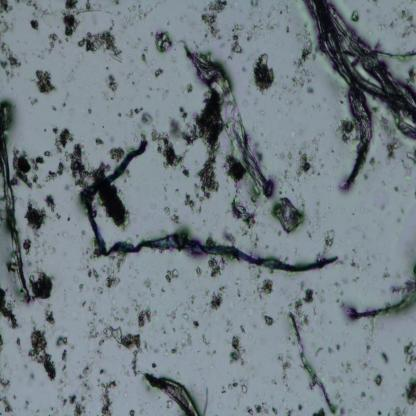Background material: (95, 304, 153, 372), (191, 92, 223, 199), (149, 110, 195, 180), (287, 22, 315, 94), (226, 191, 261, 248), (76, 21, 122, 63), (277, 139, 319, 185), (66, 142, 110, 183), (24, 327, 55, 384), (96, 185, 132, 232), (165, 305, 201, 352), (63, 361, 92, 415), (28, 271, 57, 324), (12, 150, 48, 190), (86, 254, 127, 289), (23, 194, 58, 235), (272, 194, 306, 236), (376, 115, 401, 162), (246, 262, 274, 302), (199, 0, 226, 41), (388, 5, 416, 41), (250, 53, 274, 92), (0, 284, 20, 330), (121, 4, 152, 31), (0, 40, 22, 78), (200, 285, 228, 314), (338, 254, 364, 285), (49, 121, 75, 152), (292, 291, 315, 325), (60, 0, 81, 37), (246, 18, 281, 40), (222, 153, 245, 186), (195, 256, 231, 277), (99, 378, 119, 415), (85, 300, 101, 344), (24, 0, 54, 22), (318, 229, 338, 260), (33, 68, 55, 96), (275, 352, 292, 388), (334, 112, 354, 142), (0, 1, 15, 38), (230, 332, 247, 364), (0, 377, 15, 413), (122, 106, 152, 123), (229, 24, 243, 59), (193, 331, 216, 352), (54, 333, 70, 363), (0, 100, 16, 130), (154, 28, 173, 53), (100, 75, 118, 101), (46, 160, 67, 182), (245, 401, 278, 415), (218, 380, 248, 394), (19, 235, 37, 258), (161, 204, 180, 225), (403, 339, 416, 366), (106, 146, 126, 163), (140, 279, 154, 303), (182, 191, 197, 212), (404, 378, 416, 404), (403, 147, 416, 171), (322, 342, 342, 357), (164, 266, 180, 284), (72, 277, 86, 296), (354, 386, 368, 405), (260, 311, 275, 326), (49, 33, 62, 50), (389, 404, 409, 415), (340, 360, 352, 376), (378, 350, 390, 365), (15, 337, 24, 356), (180, 82, 193, 95), (372, 372, 384, 386), (349, 9, 361, 23), (156, 85, 170, 97), (247, 0, 262, 11), (140, 47, 150, 63), (29, 18, 40, 32), (60, 94, 72, 106), (152, 67, 163, 80), (82, 105, 94, 116), (312, 407, 327, 415), (314, 348, 322, 359), (30, 95, 37, 106), (127, 408, 136, 414), (53, 106, 60, 112), (0, 332, 2, 350)
Cellulose filter fibre: (304, 1, 416, 140), (182, 40, 272, 194), (0, 122, 30, 302), (287, 312, 335, 412), (347, 268, 416, 320), (342, 85, 374, 191), (144, 372, 199, 415)
Cotton: (82, 138, 339, 274)
